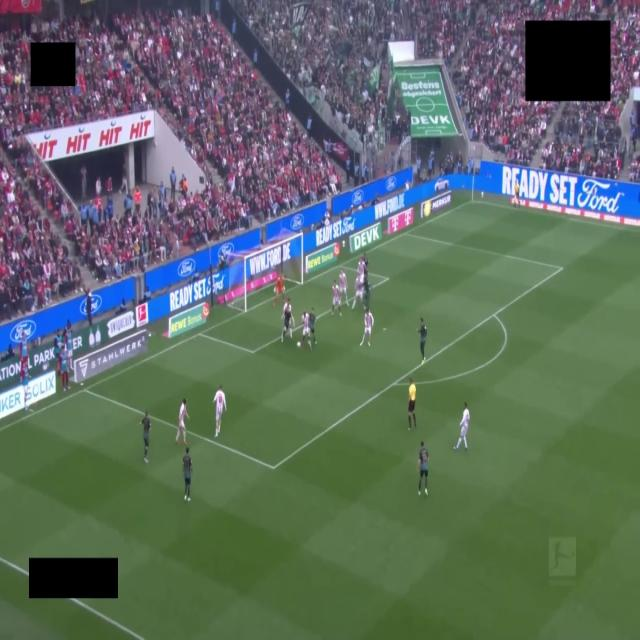ball: (297, 342, 301, 348)
player: (454, 402, 469, 450), (213, 385, 226, 437), (176, 399, 188, 445), (418, 441, 428, 495), (281, 299, 293, 342), (183, 448, 192, 502), (360, 309, 373, 345), (141, 412, 150, 463), (352, 278, 364, 310), (418, 318, 426, 364), (302, 311, 311, 350), (274, 273, 284, 306), (332, 280, 341, 316), (339, 270, 347, 305), (363, 274, 370, 308), (309, 308, 315, 344), (357, 256, 365, 280), (361, 253, 368, 278)
referee: (408, 378, 416, 430)
